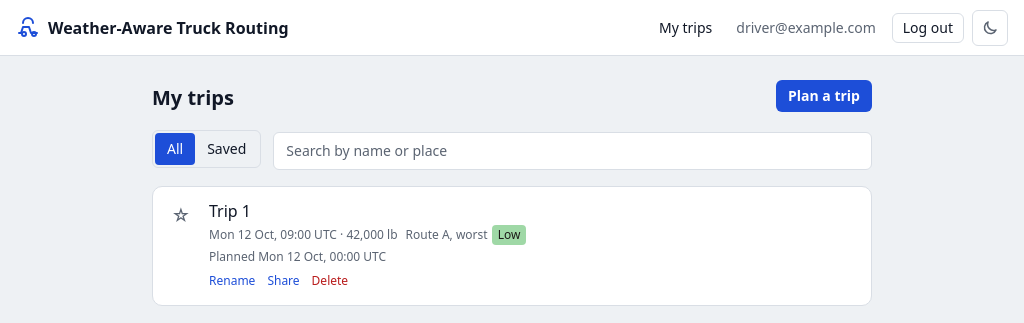
Scenario: My trips › renames a trip in place with the keyboard
The image size is (1024, 323).
Click the button with aria-label "Rename: Trip 1" at (232, 281), box [209,269,255,293]
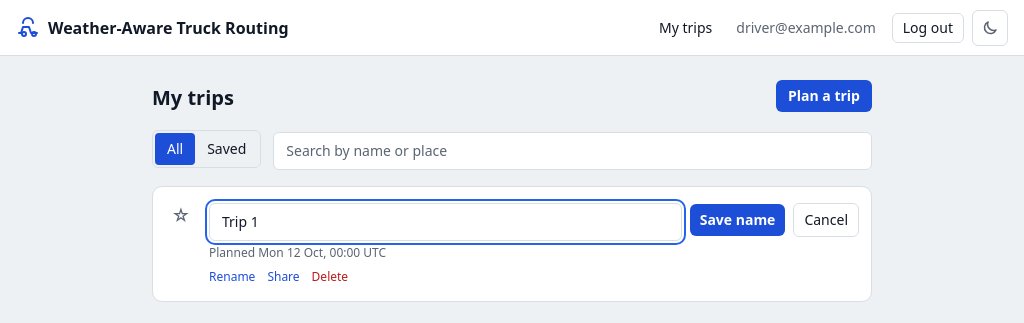
Clear the field named "Name for Trip 1" at (445, 222), box [209,203,682,241]
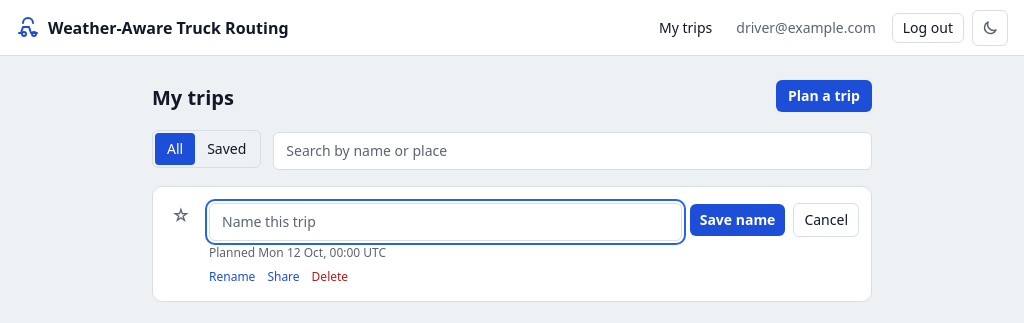
Type keys "Weekly run{Enter}"
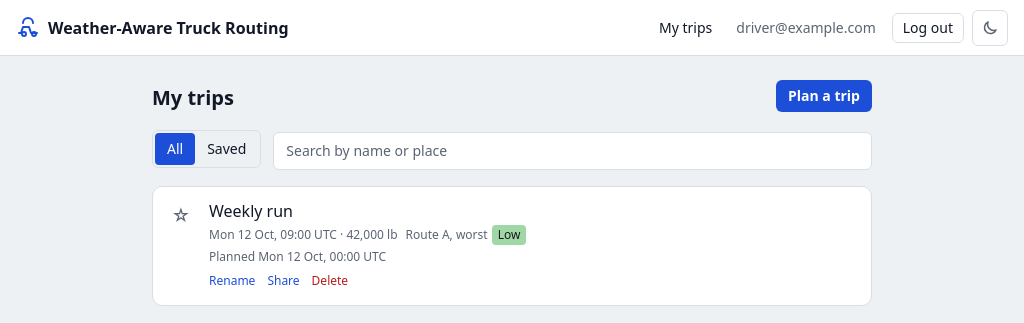
Result: the link "Weekly run" is shown at [209,200,526,245]
